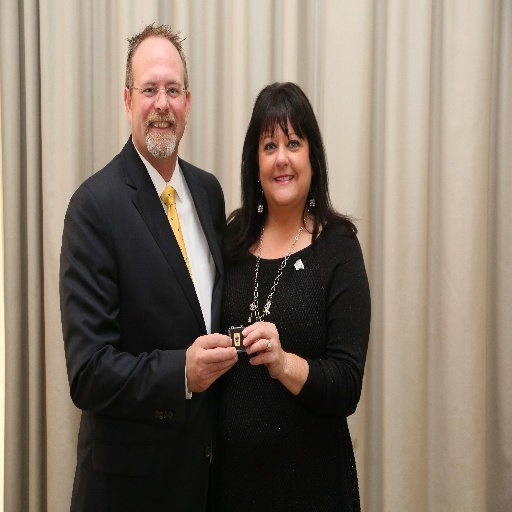hand: (182, 336, 233, 395), (241, 318, 285, 379)
